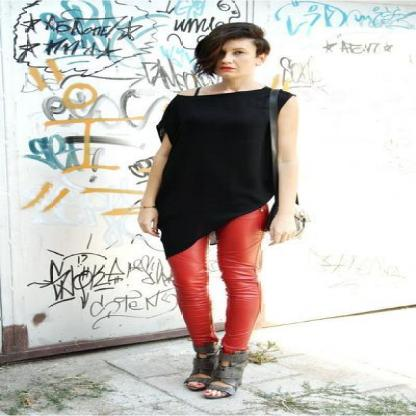bag: (260, 91, 288, 231)
dress: (152, 87, 295, 257)
pants: (166, 205, 268, 352)
shoe: (183, 342, 245, 398)
